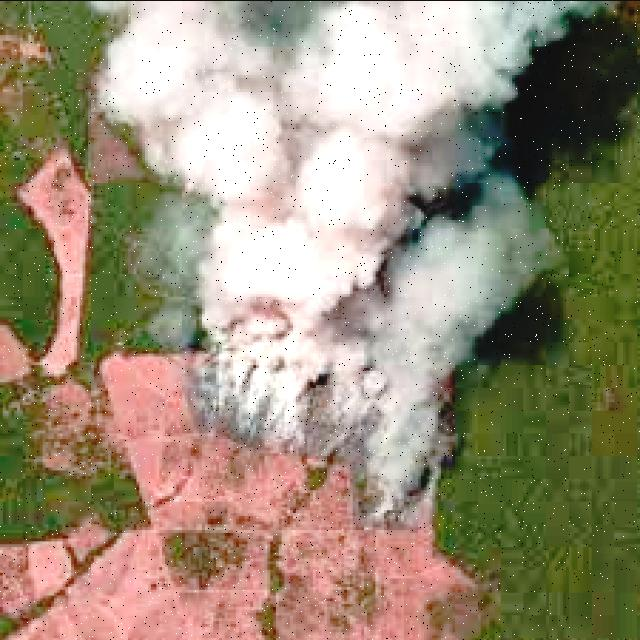asap: (126, 3, 550, 461)
